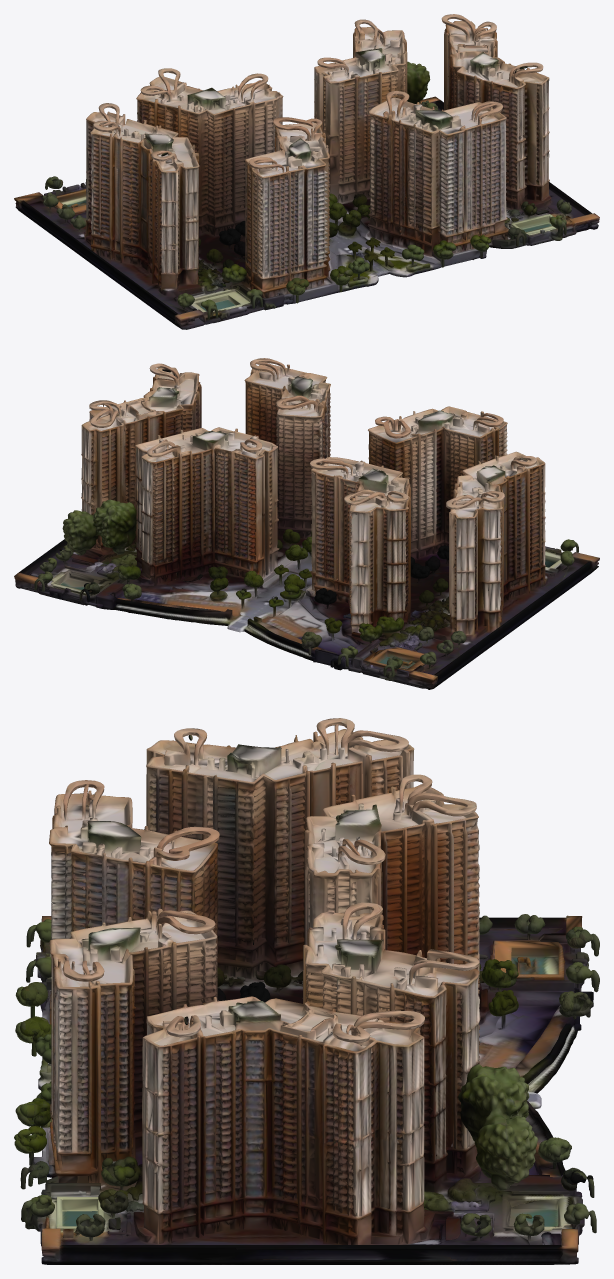
The model's file is norton-park.glb.
3 renders of one model, top to bottom at view 1: azimuth 30°, elevation 25°; view 2: azimuth 150°, elevation 25°; view 3: azimuth 270°, elevation 25°, orthographic. The views are drawn at different scales.
Visible parts, largest first — view 1: world; view 2: world; view 3: world.
Part boxes in pixels (bbox=[...]): world: bbox=[14, 14, 599, 329]; world: bbox=[14, 358, 599, 689]; world: bbox=[14, 718, 599, 1264].
Bounding box in the file's own units: 0.9999 × 0.3165 × 0.7435.
Materials: 1 (1 with a texture image).
